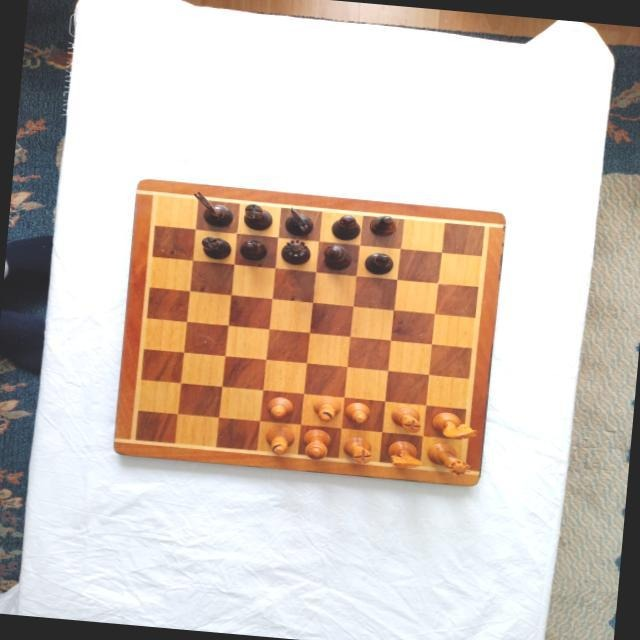black-bishop: (328, 214, 360, 242), (362, 251, 394, 277)
black-king: (320, 244, 352, 272)
black-knight: (188, 190, 235, 228), (282, 205, 315, 238)
black-pawn: (237, 238, 269, 262), (367, 214, 397, 238)
black-queen: (277, 238, 311, 266)
black-rook: (239, 201, 272, 232), (196, 235, 231, 261)
white-bishop: (262, 423, 296, 456), (310, 394, 342, 422)
white-king: (296, 426, 331, 462)
white-knight: (429, 410, 479, 442), (385, 438, 423, 469)
white-pawn: (341, 400, 371, 425), (263, 396, 294, 420)
white-queen: (424, 441, 472, 477)
white-rook: (340, 433, 374, 464), (389, 404, 423, 433)
